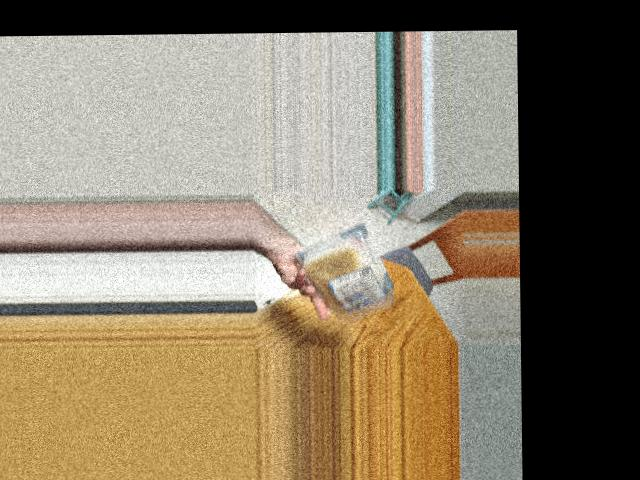cheese: (319, 224, 394, 315)
